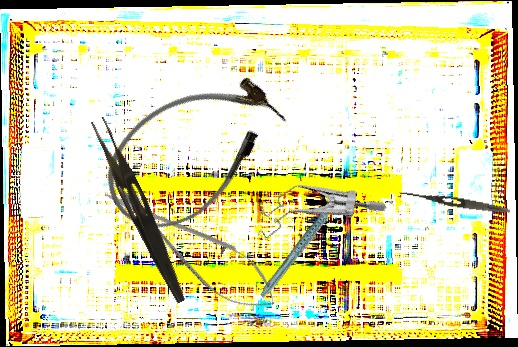Cannula: (82, 50, 303, 253)
Dressing Forceps: (83, 115, 196, 306), (396, 188, 512, 216)
Handpiece: (243, 198, 360, 300)
Micro Scissor: (94, 167, 290, 326)
Speculum: (244, 147, 389, 278)
